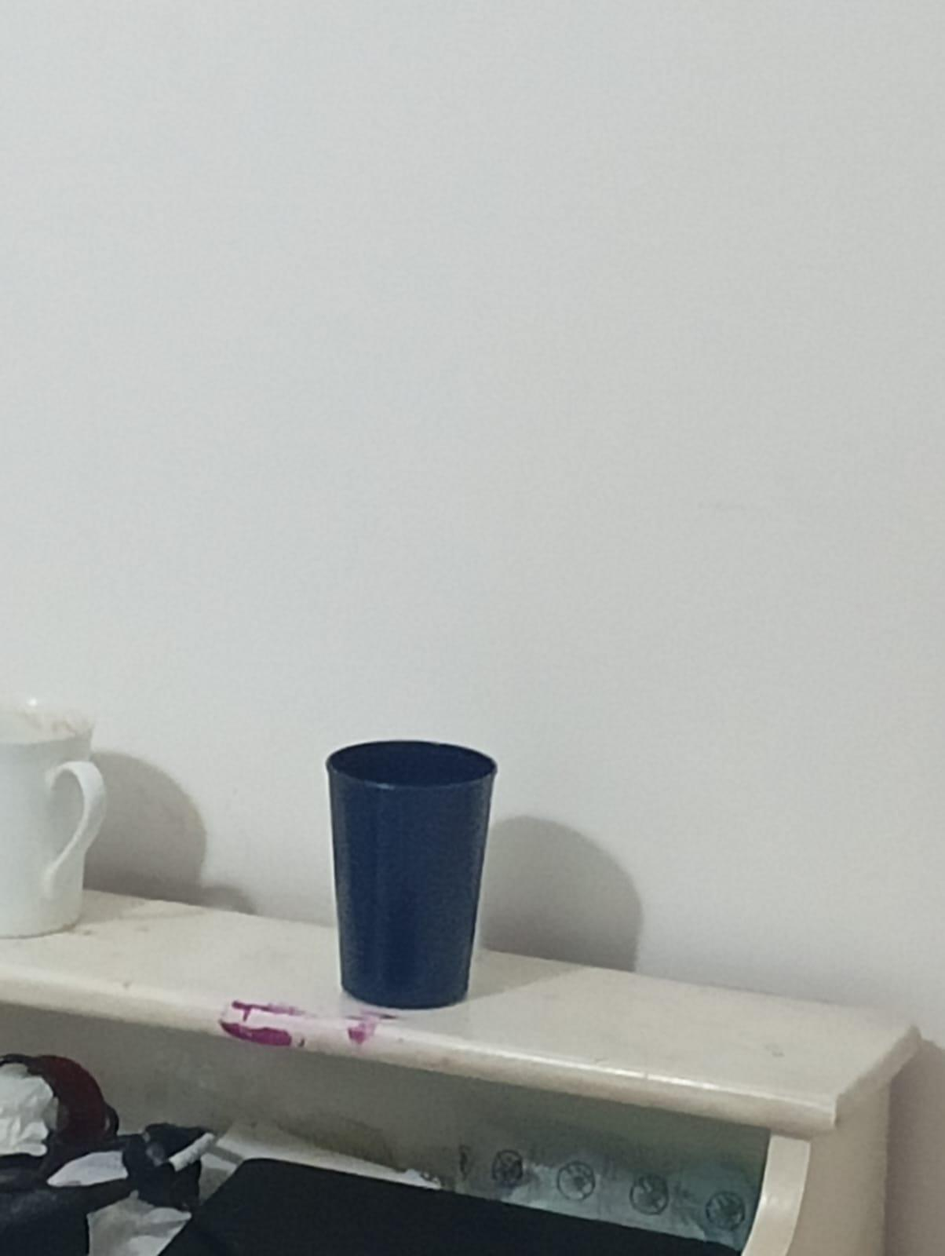cup: (327, 741, 495, 1008), (0, 703, 105, 937)
